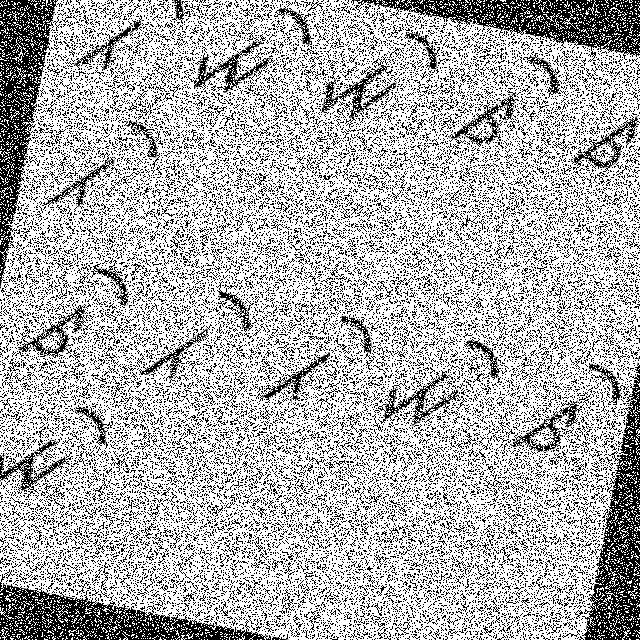bay: (134, 266, 266, 408), (255, 290, 382, 434), (37, 102, 166, 228), (65, 0, 198, 93)
cay: (5, 244, 138, 380), (504, 338, 630, 476), (448, 44, 566, 166), (566, 64, 639, 186)
may: (372, 308, 508, 454), (313, 12, 447, 144), (0, 375, 119, 514), (186, 0, 321, 122)
